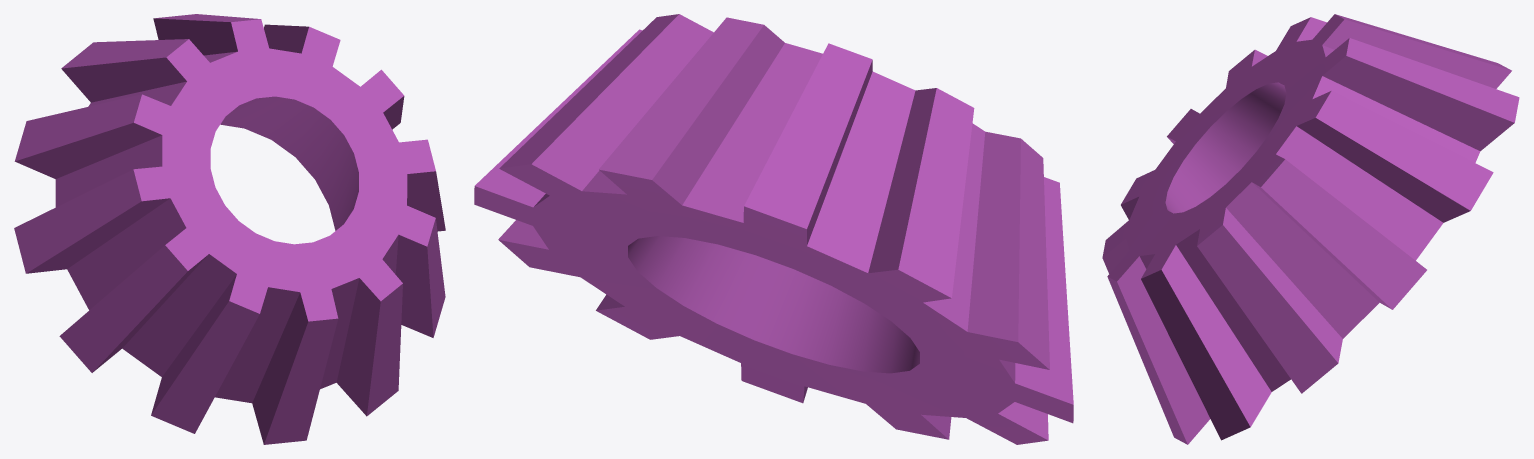
The picture shows the model from 3 angles, left to right: view 1: azimuth 30°, elevation 25°; view 2: azimuth 150°, elevation 25°; view 3: azimuth 270°, elevation 25°; orthographic projection. The views are drawn at different scales.
Visible parts, largest first — view 1: Joint_0_Object_0; view 2: Joint_0_Object_0; view 3: Joint_0_Object_0.
Boxes of the visible parts, x1=… form: Joint_0_Object_0: x1=14, y1=14, x2=445, y2=444; Joint_0_Object_0: x1=474, y1=14, x2=1073, y2=444; Joint_0_Object_0: x1=1102, y1=14, x2=1519, y2=444.
Bounding box in the file's own units: 283 × 237 × 237.
